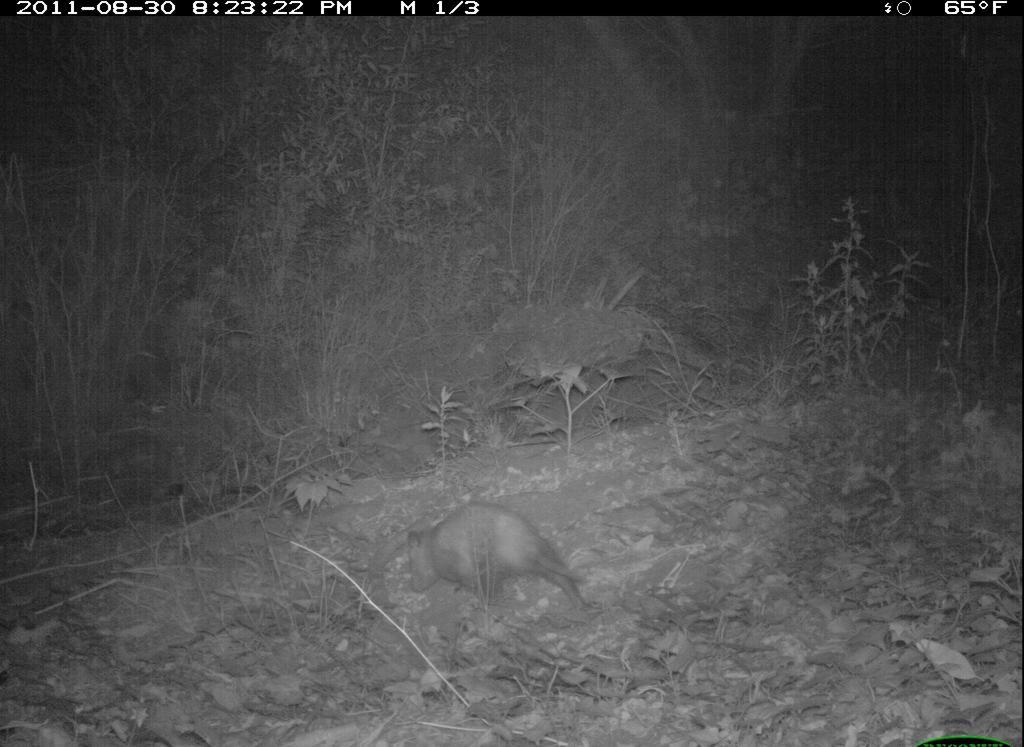opossum: (397, 494, 608, 631)
